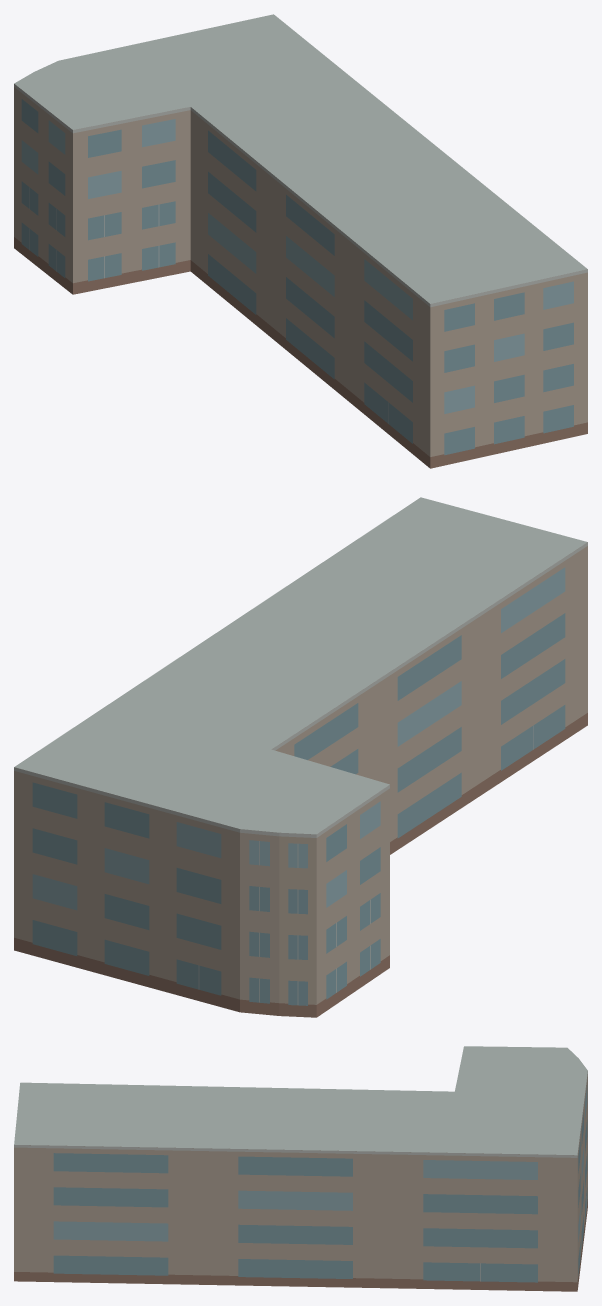
Rendered from survey-upis-32777732.glb.
3 views of the same model, one above another, from view 1: azimuth 30°, elevation 25°; view 2: azimuth 150°, elevation 25°; view 3: azimuth 270°, elevation 25° (orthographic). The views are drawn at different scales.
Visible parts, largest first — view 1: survey-upis-32777732.tmp; view 2: survey-upis-32777732.tmp; view 3: survey-upis-32777732.tmp.
Boxes of the visible parts, box(x1,y1,x2,y2) form: survey-upis-32777732.tmp: box(14, 14, 587, 468); survey-upis-32777732.tmp: box(14, 497, 587, 1017); survey-upis-32777732.tmp: box(14, 1046, 587, 1291).
Bounding box in the file's own units: 20.81 × 12.15 × 46.29.
